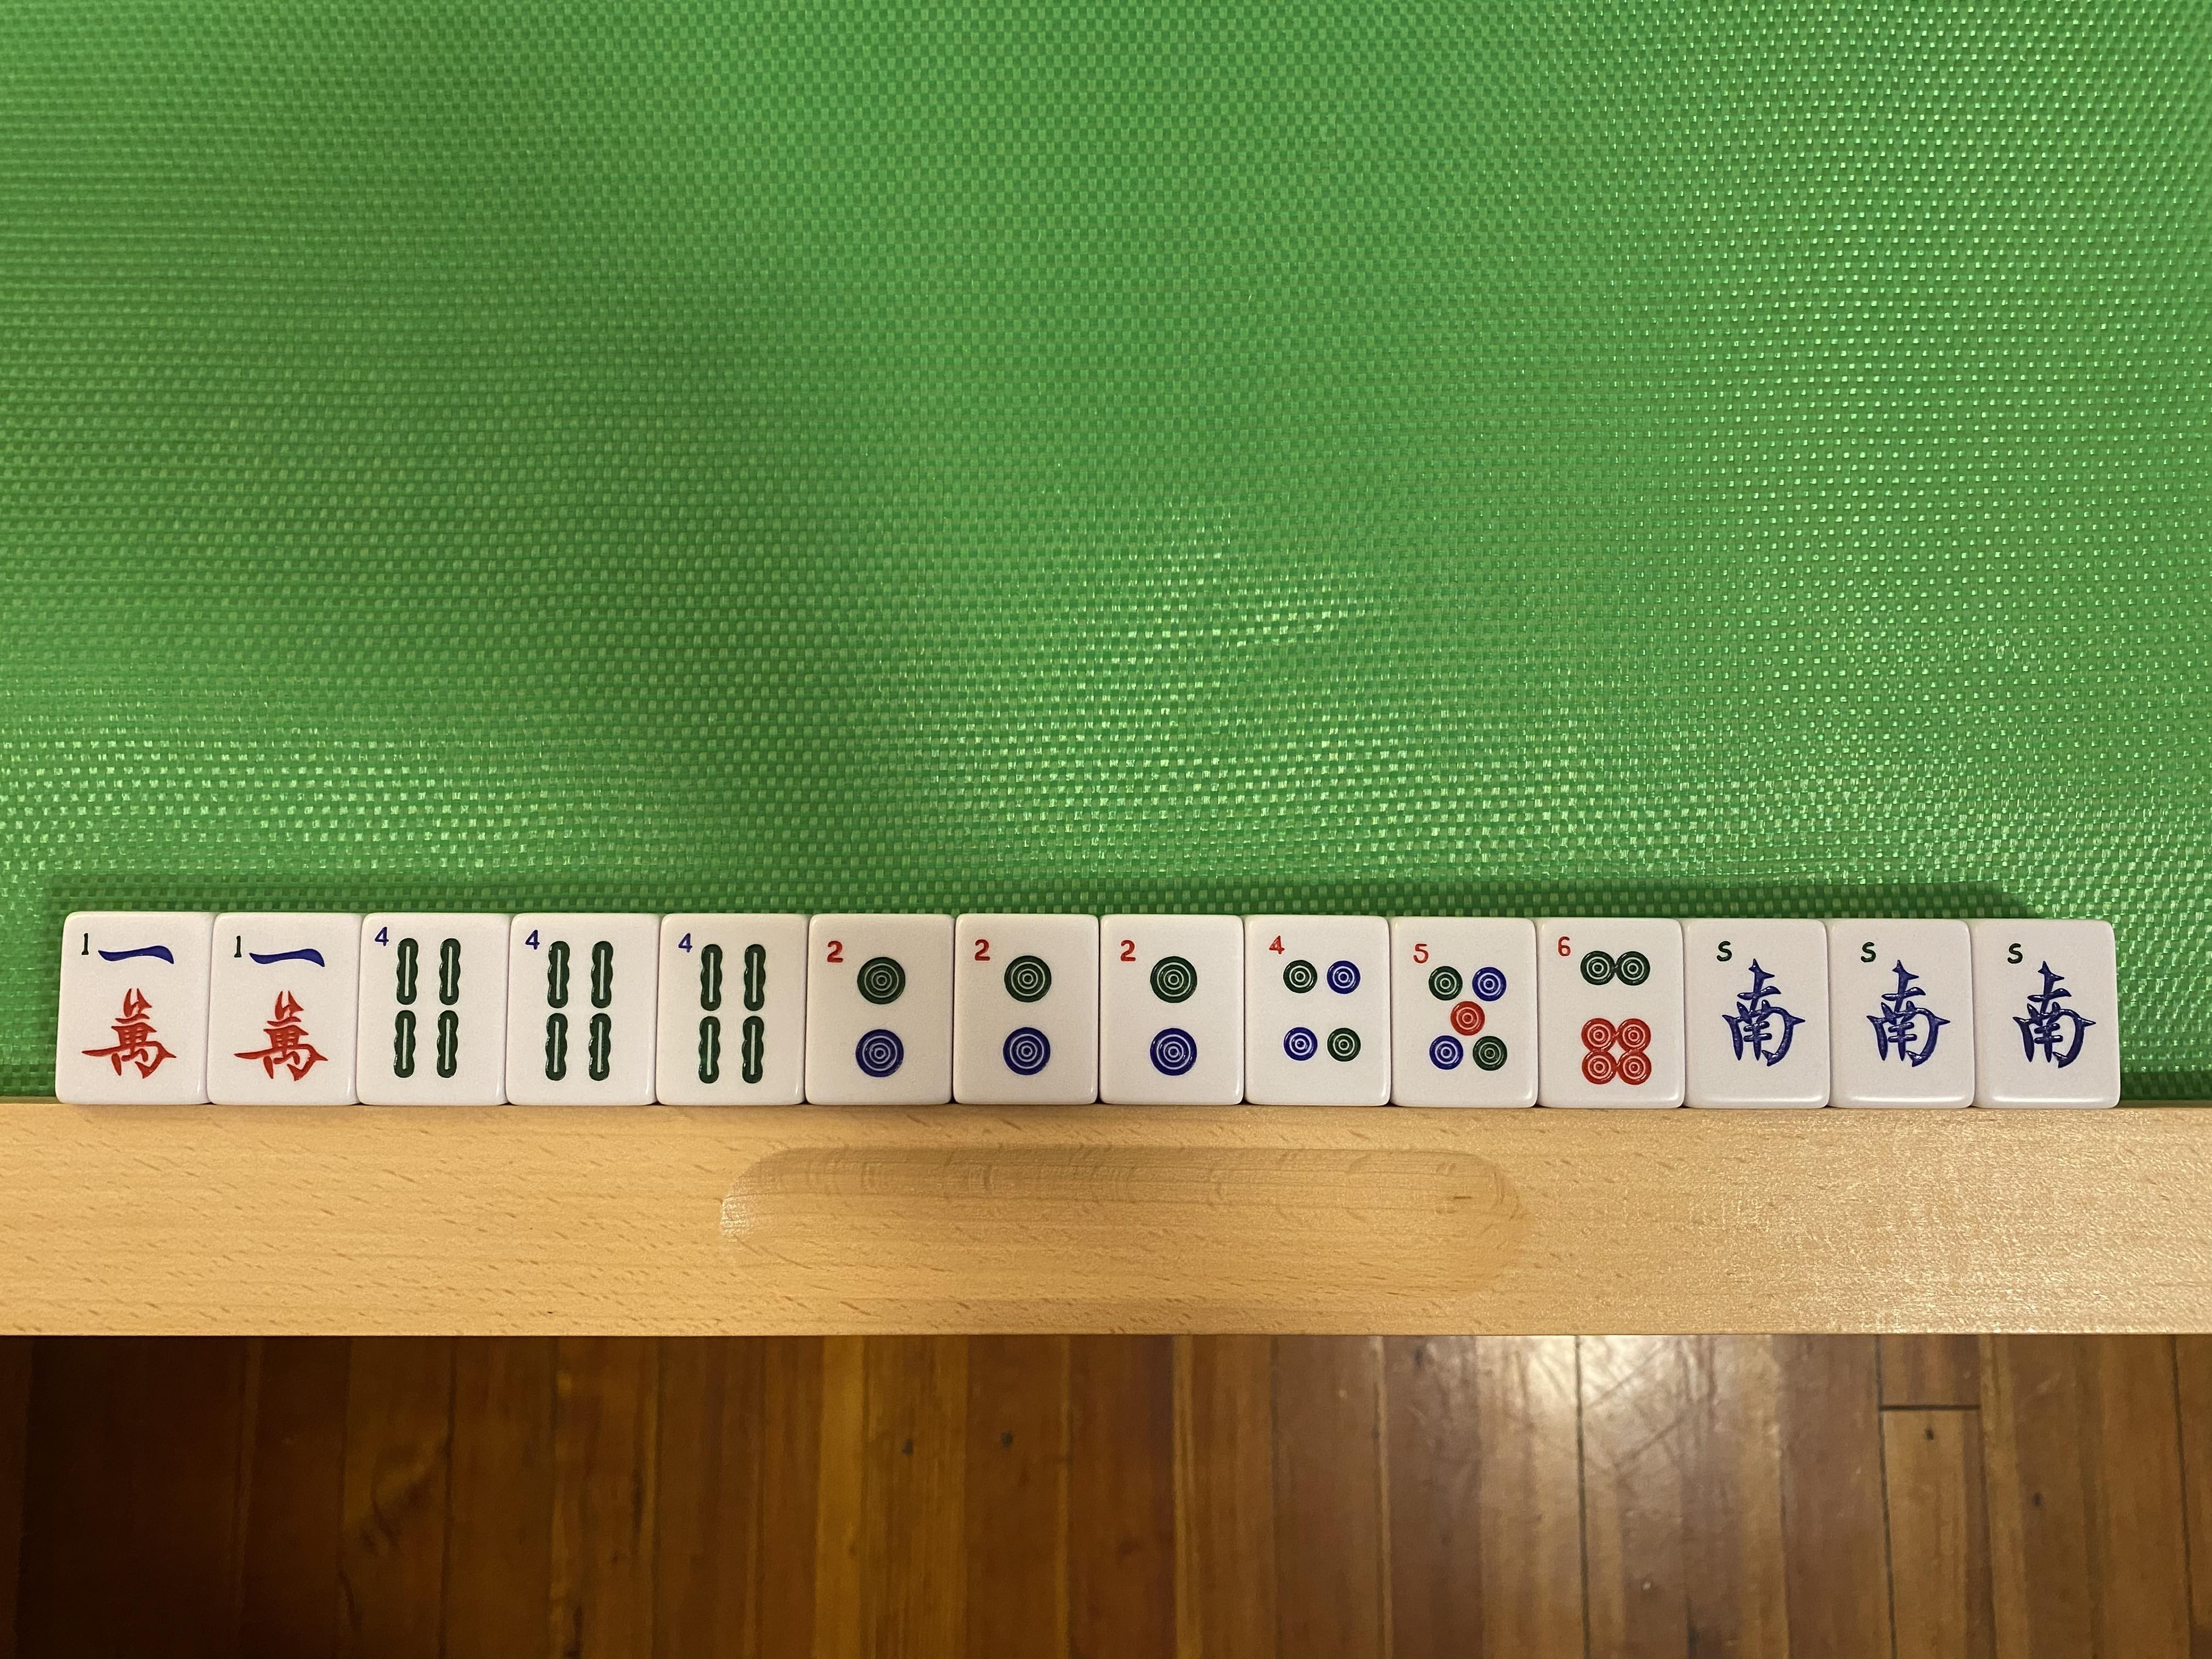bamboo-four: (510, 918, 655, 1101), (660, 918, 801, 1103), (364, 918, 507, 1100)
character-one: (218, 920, 348, 1098), (64, 920, 197, 1094)
circle-five: (1397, 922, 1531, 1100)
circle-four: (1249, 922, 1383, 1105)
circle-six: (1543, 920, 1681, 1101)
circle-two: (810, 917, 951, 1101), (954, 918, 1096, 1100), (1104, 918, 1240, 1101)
honor-south_wind: (1979, 924, 2111, 1103), (1838, 922, 1970, 1101), (1691, 922, 1824, 1101)
